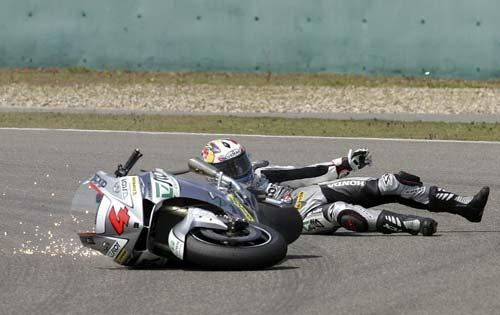falling: (205, 126, 490, 246)
